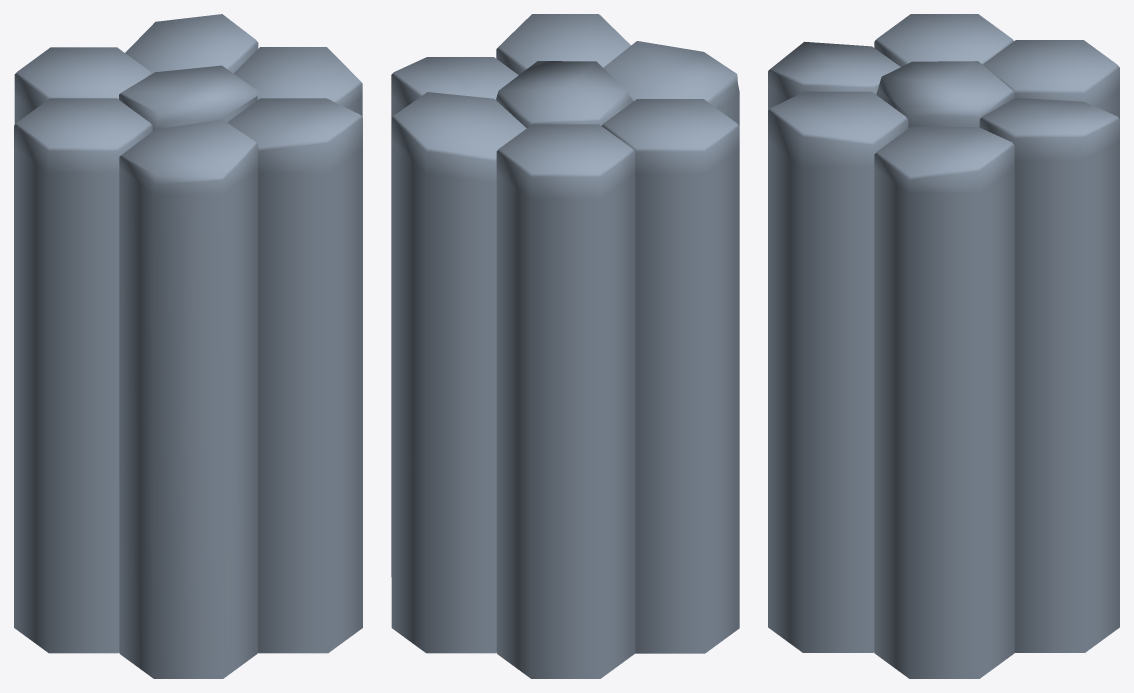
File: HexVariation6.fbx
The picture shows the model from 3 angles, left to right: view 1: azimuth 30°, elevation 25°; view 2: azimuth 150°, elevation 25°; view 3: azimuth 270°, elevation 25°; orthographic projection.
Visible parts, largest first — view 1: Cylinder.006, Cylinder.001, Cylinder.002, Cylinder.005, Cylinder.003, Cylinder.000, Cylinder.004; view 2: Cylinder.005, Cylinder.004, Cylinder.001, Cylinder.003, Cylinder.006, Cylinder.002, Cylinder.000; view 3: Cylinder.000, Cylinder.002, Cylinder.004, Cylinder.005, Cylinder.003, Cylinder.006, Cylinder.001.
Part boxes in pixels (x1,y1,x2,y2): Cylinder.006: (119,119,257,678); Cylinder.001: (14,98,152,653); Cylinder.002: (227,98,362,653); Cylinder.005: (14,47,151,124); Cylinder.003: (119,65,260,130); Cylinder.000: (233,47,362,116); Cylinder.004: (125,14,258,73); Cylinder.005: (496,124,635,678); Cylinder.004: (391,92,526,653); Cylinder.001: (602,99,739,653); Cylinder.003: (496,61,632,127); Cylinder.006: (603,41,739,125); Cylinder.002: (496,14,630,74); Cylinder.000: (391,57,518,576); Cylinder.000: (874,127,1014,678); Cylinder.002: (768,91,908,652); Cylinder.004: (979,98,1119,652); Cylinder.005: (982,40,1119,118); Cylinder.003: (876,61,1014,128); Cylinder.006: (768,41,900,110); Cylinder.001: (874,14,1013,66).
Size of the model in its own units: 520 by 822 by 499.
